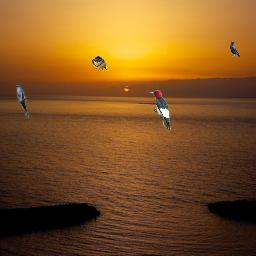Crow: (230, 41, 240, 57)
Cuckoo: (16, 85, 29, 120)
Swallow: (92, 56, 108, 71)
Woodpecker: (149, 90, 171, 130)
